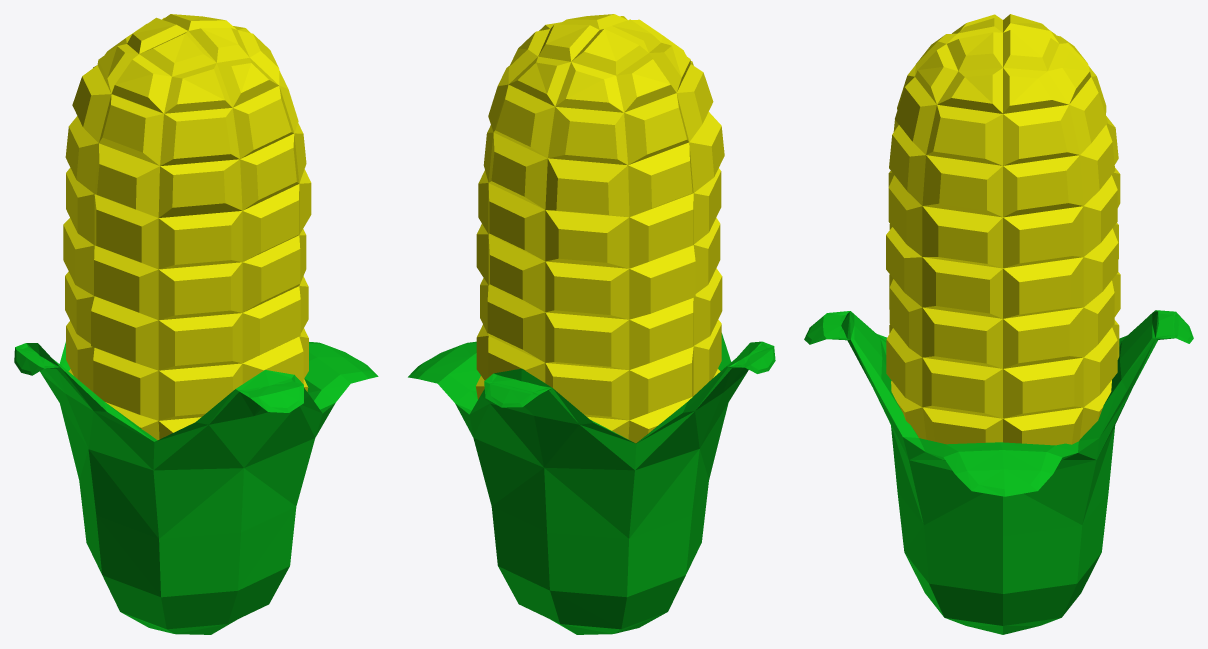
Rendered from maiz.fbx.
3 renders of one model, left to right at view 1: azimuth 30°, elevation 25°; view 2: azimuth 150°, elevation 25°; view 3: azimuth 270°, elevation 25°, orthographic.
Parts seen in each view (by area): view 1: Material_002-material, Material_001-material; view 2: Material_002-material, Material_001-material; view 3: Material_002-material, Material_001-material.
Part boxes in pixels (x1=…): Material_002-material: x1=63, y1=14, x2=311, y2=440; Material_001-material: x1=14, y1=342, x2=378, y2=634; Material_002-material: x1=476, y1=14, x2=724, y2=443; Material_001-material: x1=408, y1=333, x2=775, y2=634; Material_002-material: x1=886, y1=14, x2=1120, y2=445; Material_001-material: x1=804, y1=310, x2=1193, y2=634.
Size of the model in its own units: 783 by 1291 by 765.
